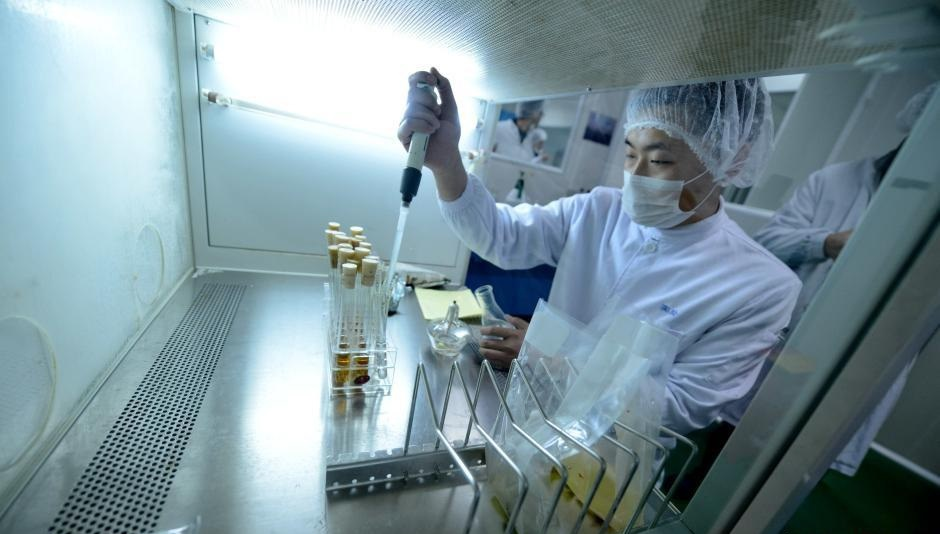face_mask: (622, 125, 698, 226)
